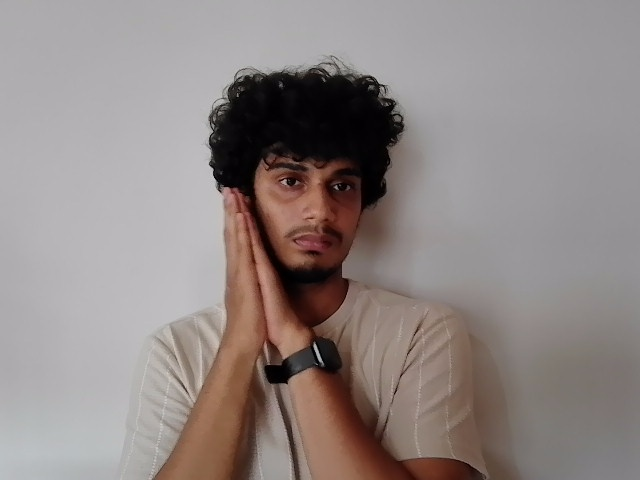sleep: (220, 162, 304, 320)
